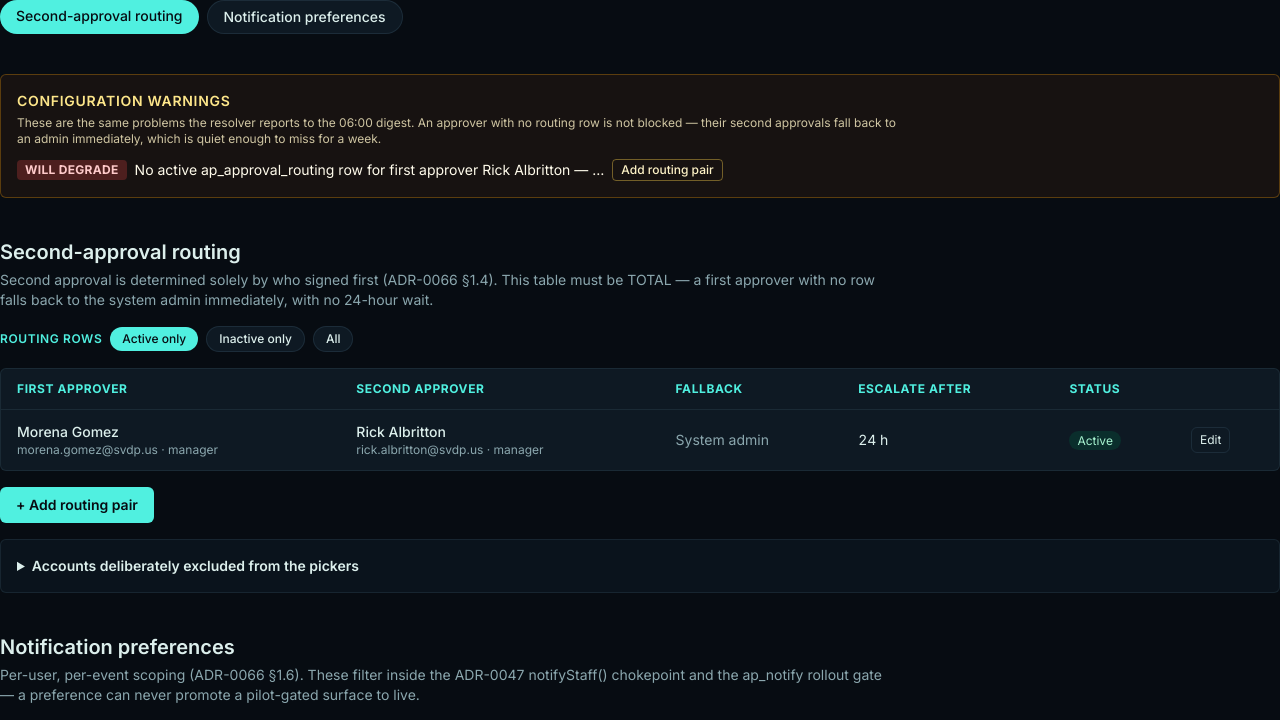
second-approver picker › never offers the first approver as their own second approver
Click the button "+ Add routing pair": click(77, 505) [0,487,154,523]
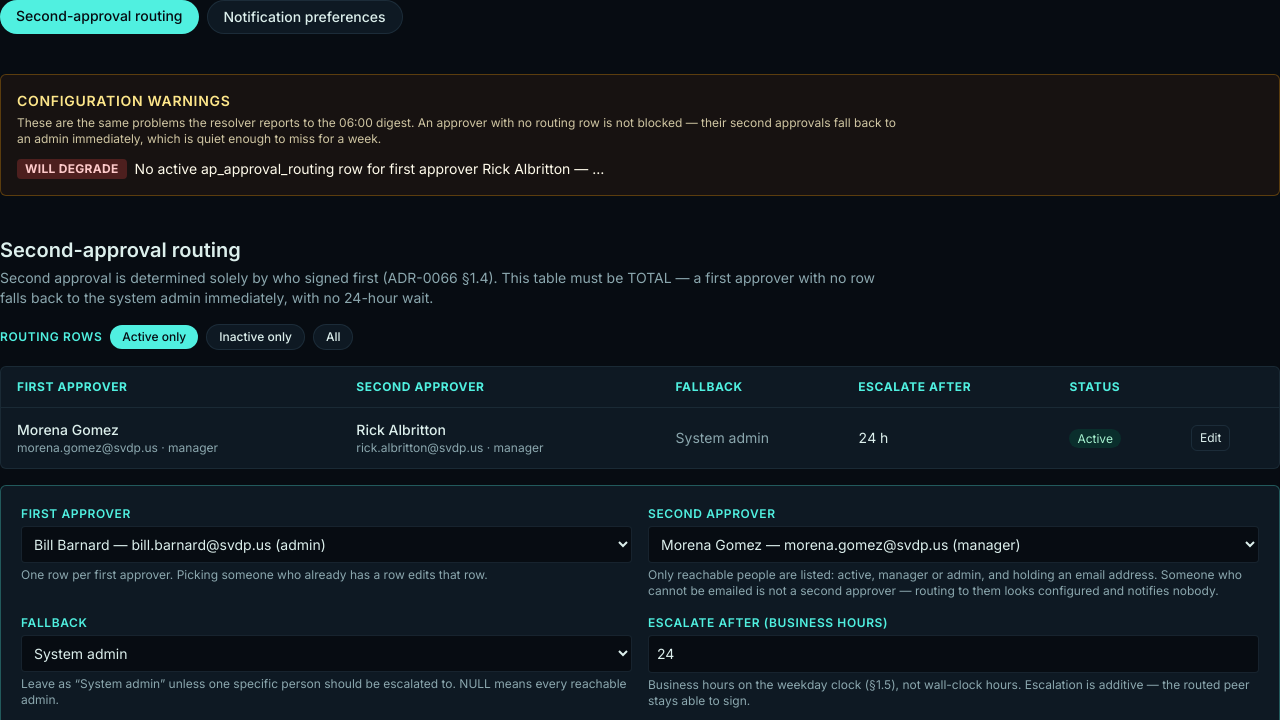
Result: the dropdown with test id "ap-routing-second" is shown at [648,526,1259,563]
